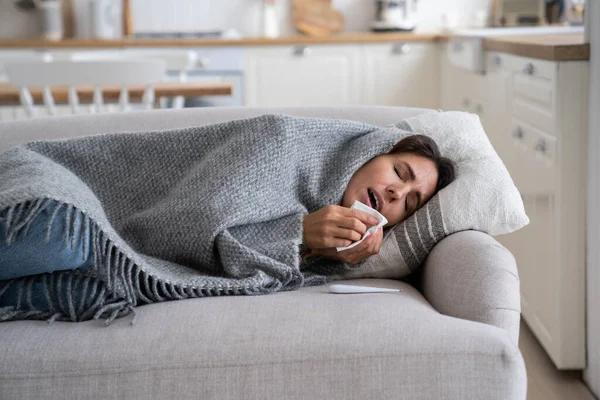blanket: (0, 111, 430, 326)
